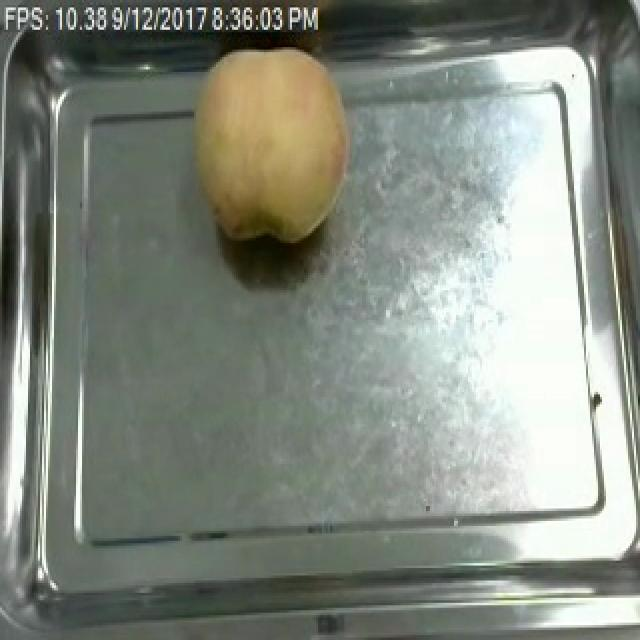Fruit: (182, 32, 362, 251)
